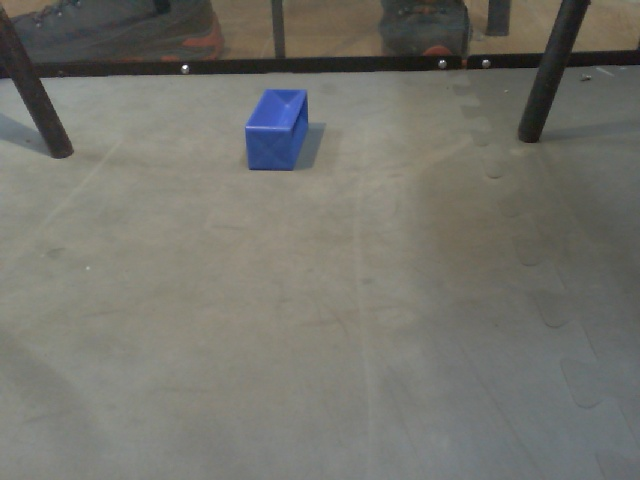BlueSample: (242, 83, 313, 177)
